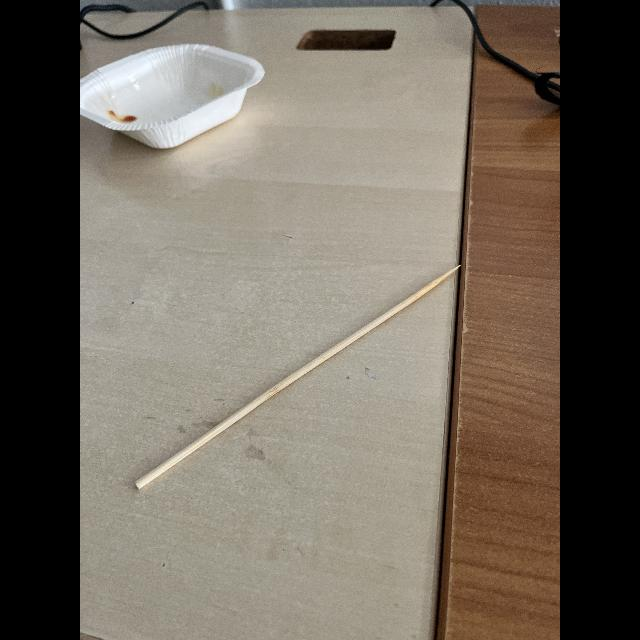cardboard_bowl: (80, 31, 278, 162)
stick: (119, 251, 478, 509)
